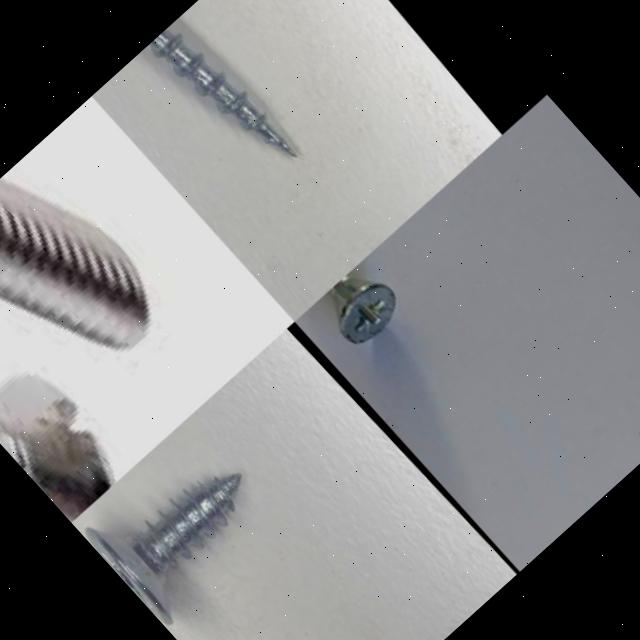Screw: (0, 177, 148, 350), (86, 473, 242, 625), (149, 28, 297, 157), (0, 370, 113, 522), (328, 273, 396, 343)
